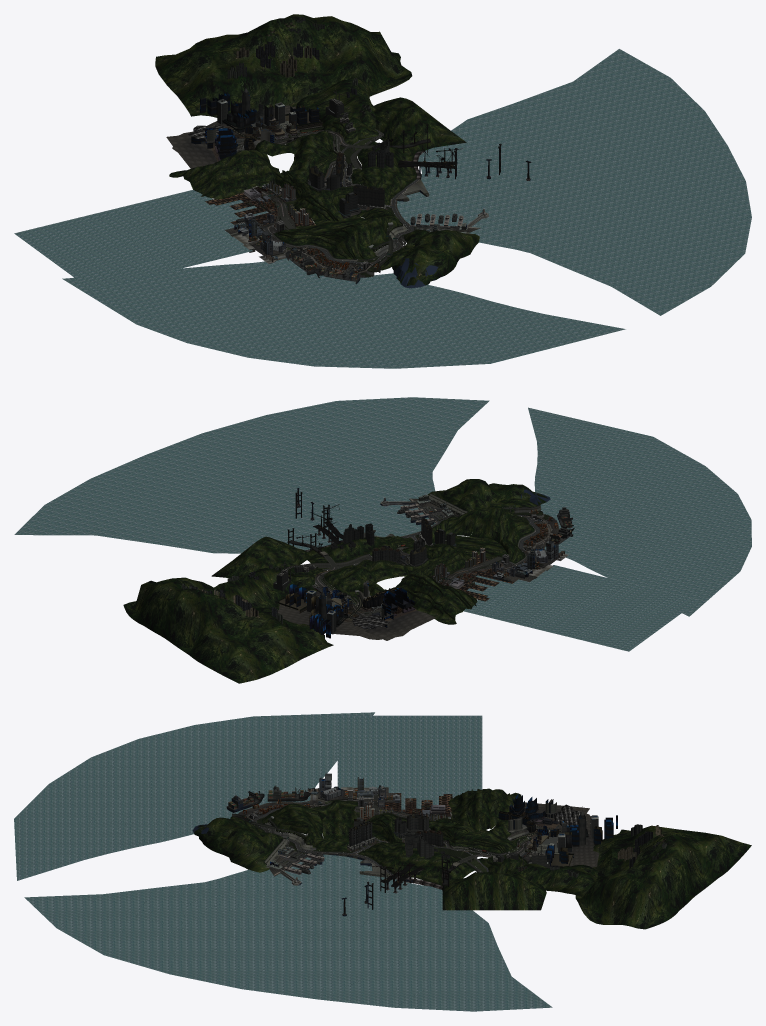
File: dockside.glb
3 views of the same model, one above another, from view 1: azimuth 30°, elevation 25°; view 2: azimuth 150°, elevation 25°; view 3: azimuth 270°, elevation 25° (orthographic). The views are drawn at different scales.
Visible parts, largest first — view 1: mesh; view 2: mesh; view 3: mesh.
Part boxes in pixels (x1,y1,x2,y2): mesh: [14, 14, 751, 368]; mesh: [14, 397, 751, 683]; mesh: [14, 712, 751, 1011].
Size of what is drawn, in the model's own units: 5450 by 461 by 5660.
Materials: 98 (98 with a texture image).
